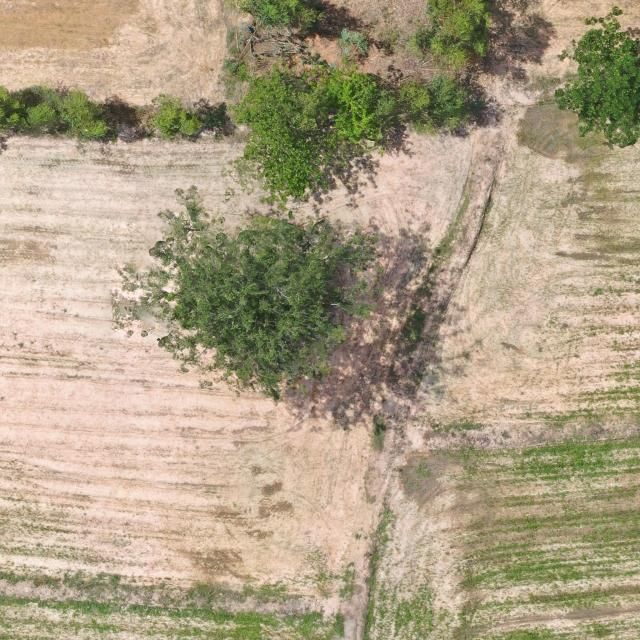Tree: (107, 182, 386, 402), (230, 62, 398, 201), (552, 5, 640, 150), (412, 0, 492, 71), (396, 74, 475, 134), (225, 0, 325, 32), (54, 88, 108, 140), (151, 90, 204, 141), (0, 84, 52, 133)
